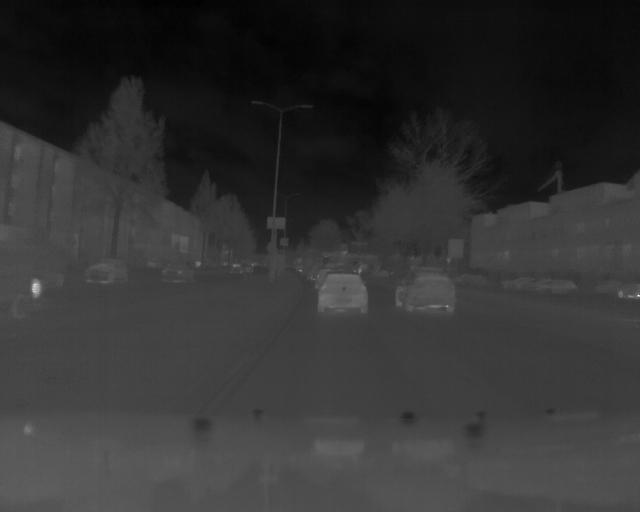car: (398, 264, 461, 317), (314, 271, 375, 317), (3, 278, 75, 309), (93, 259, 139, 284), (163, 258, 199, 287)
